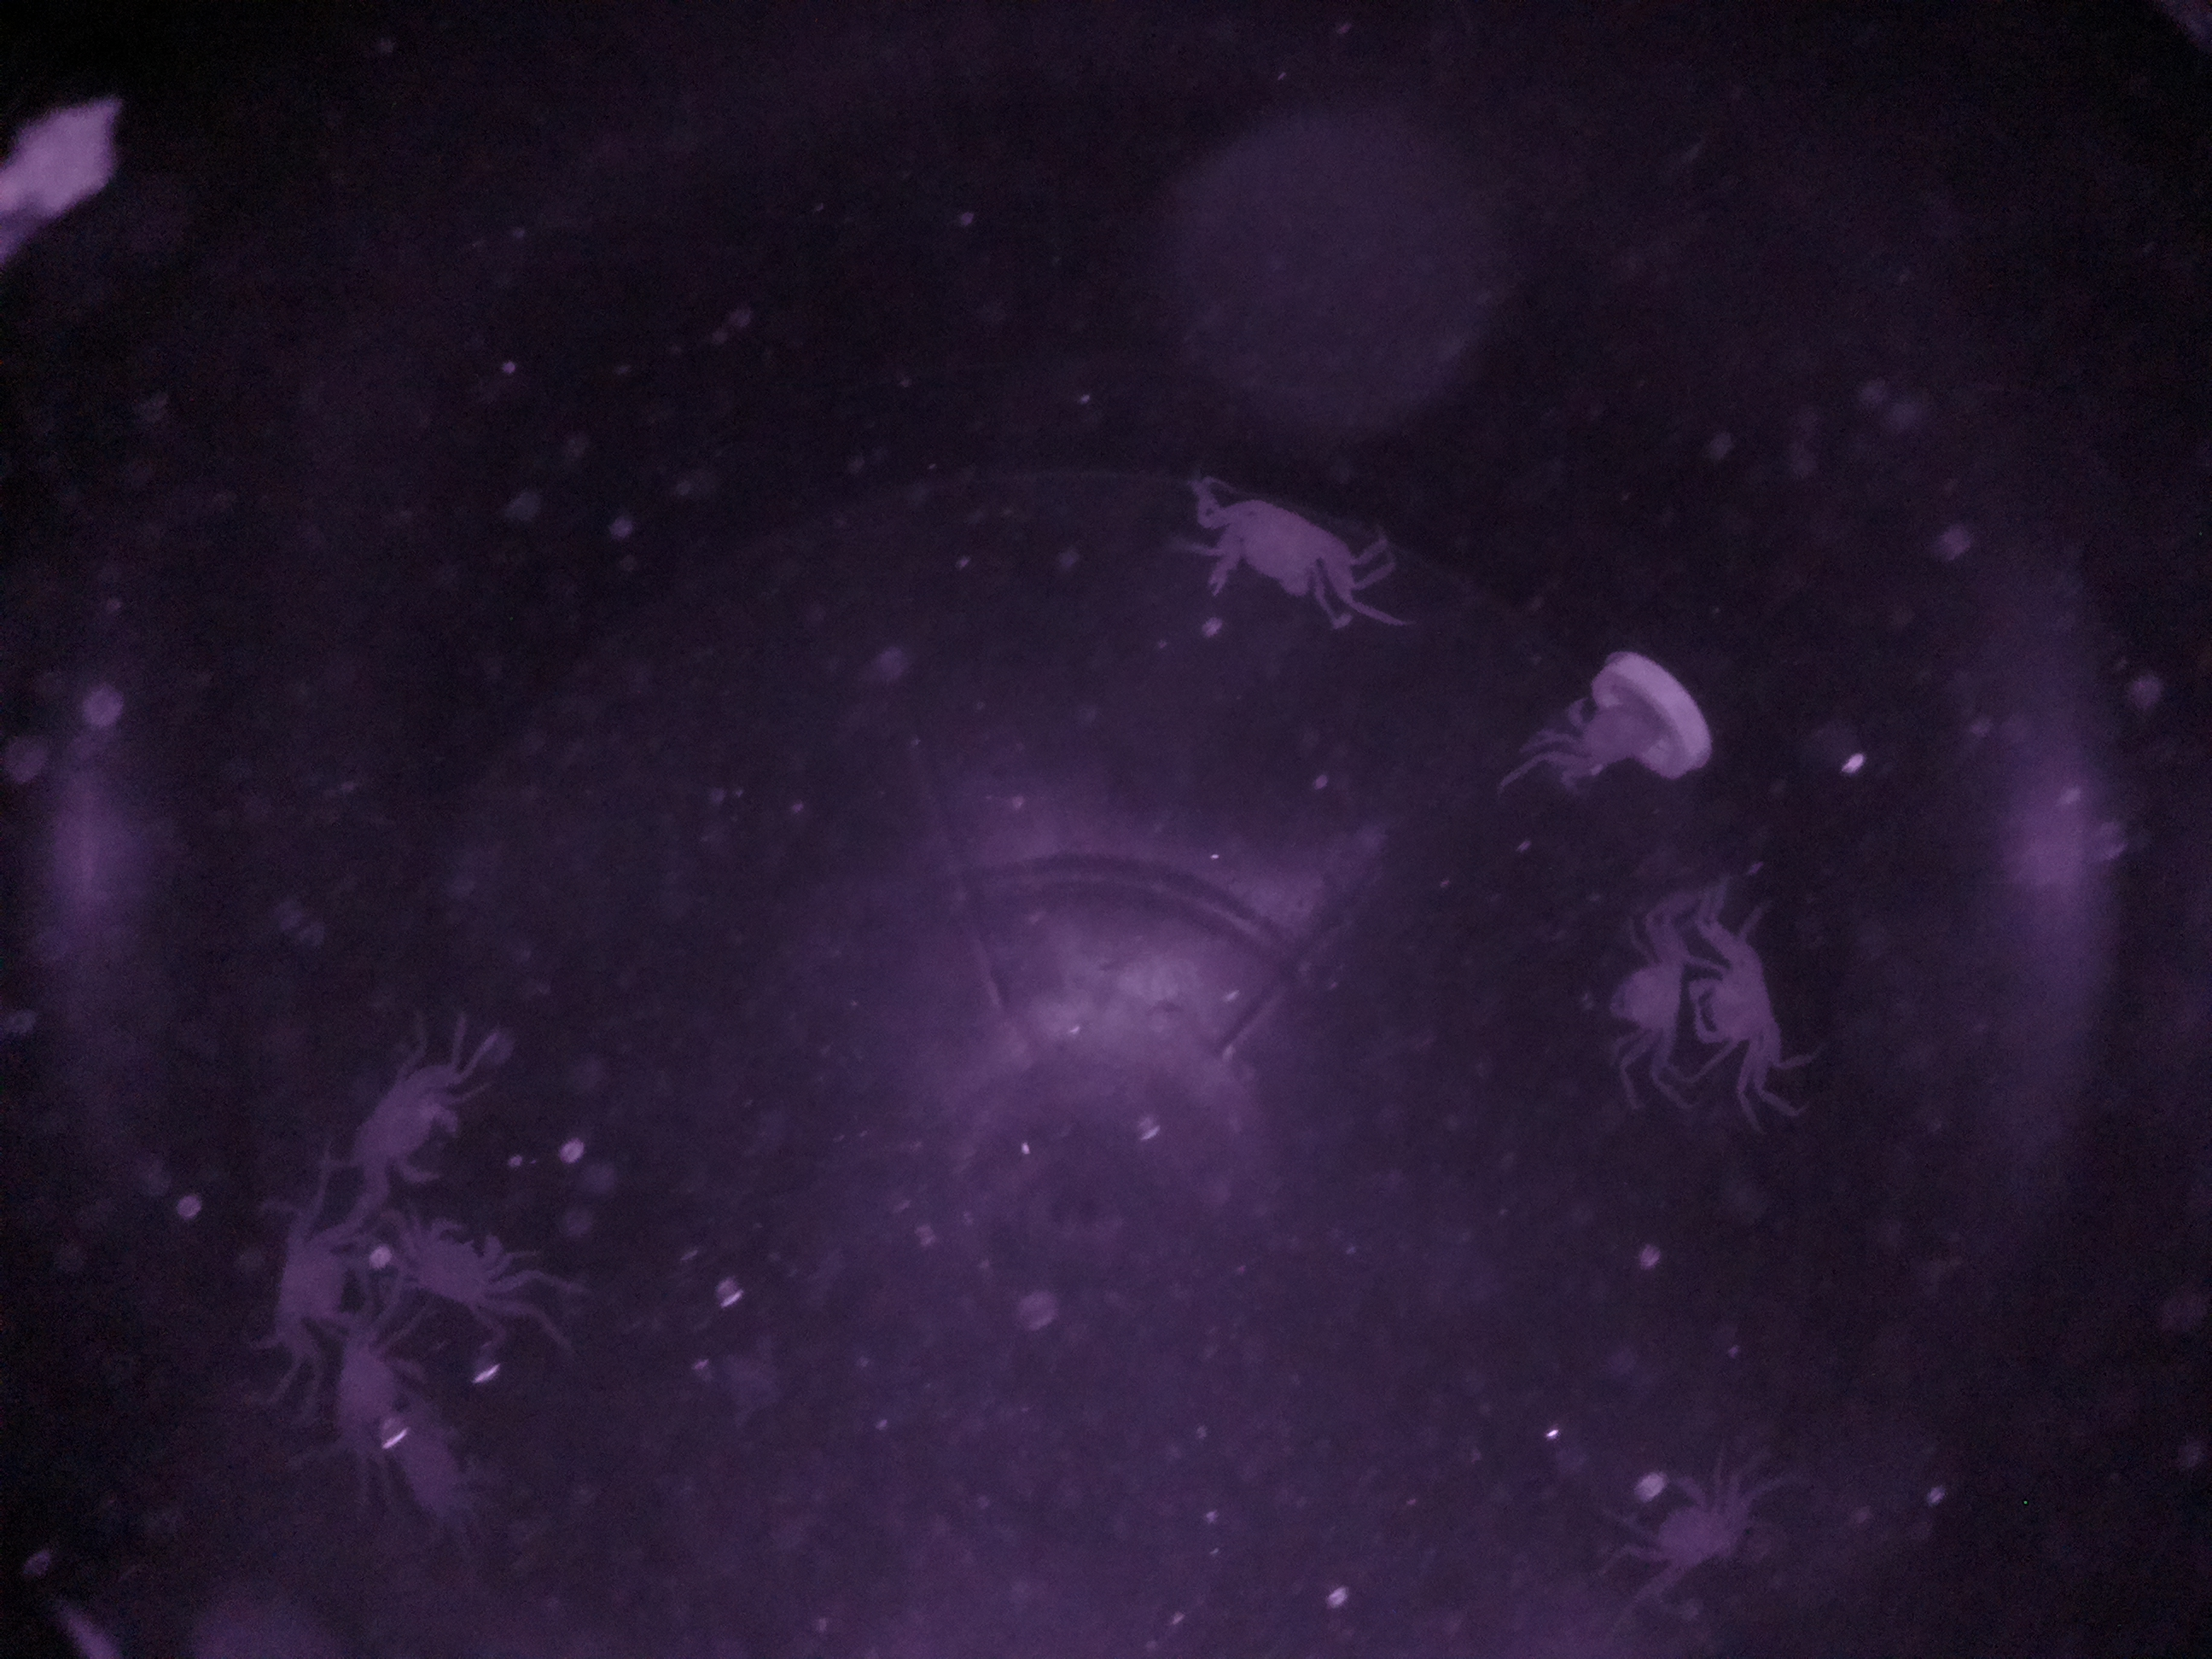Crab: (1167, 462, 1372, 664), (1686, 852, 1815, 1105), (1575, 861, 1689, 1108), (336, 1023, 481, 1208)
